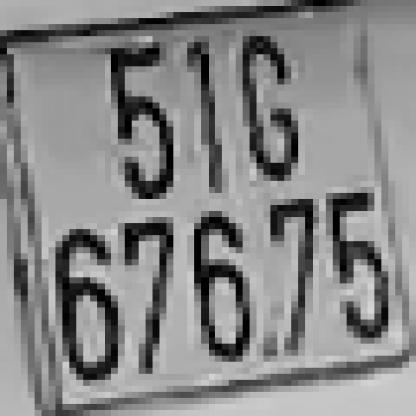1: (180, 36, 222, 193)
5: (326, 193, 381, 338), (111, 54, 166, 199)
6: (55, 223, 125, 374), (194, 211, 243, 356)
7: (125, 211, 173, 368), (263, 205, 312, 344)
G: (229, 36, 291, 181)
